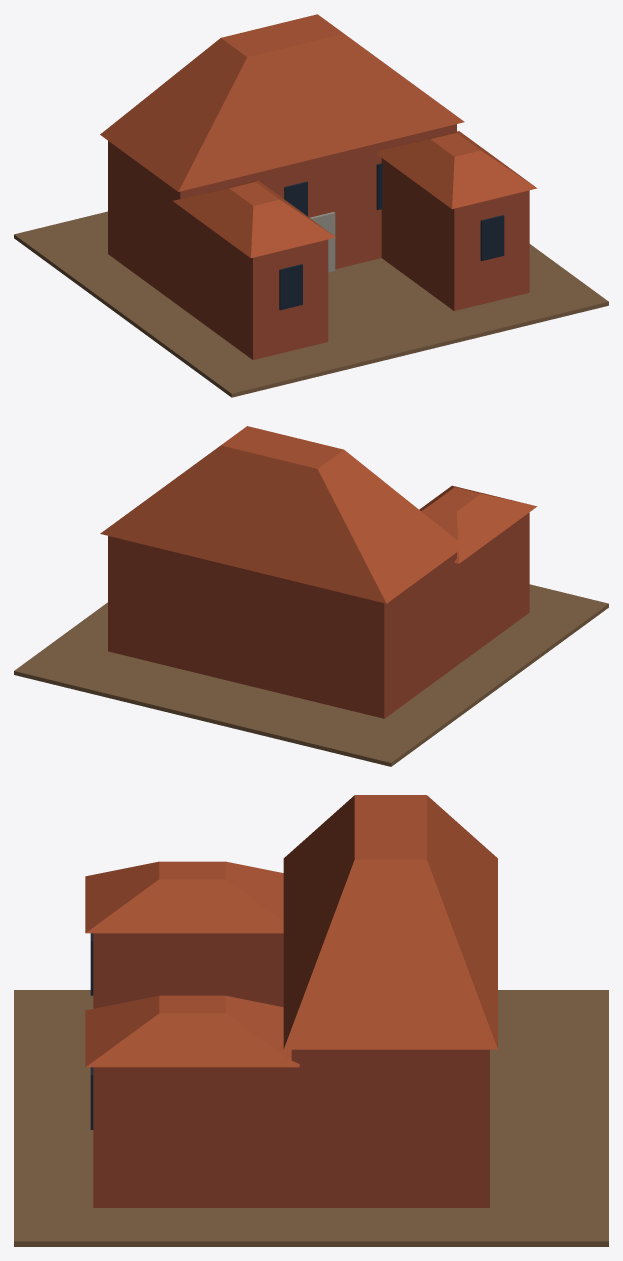
The model's file is bld_special_hospital_a04_lod1.glb.
3 views of the same model, one above another, from view 1: azimuth 30°, elevation 25°; view 2: azimuth 150°, elevation 25°; view 3: azimuth 270°, elevation 25° (orthographic). The views are drawn at different scales.
Parts seen in each view (by area): view 1: body; view 2: body; view 3: body.
Boxes of the visible parts, x1,y1,x2,y2 form: body: (14, 14, 608, 397); body: (14, 426, 608, 766); body: (14, 795, 608, 1246).
Size of the model in its own units: 15 by 8.17 by 15.
